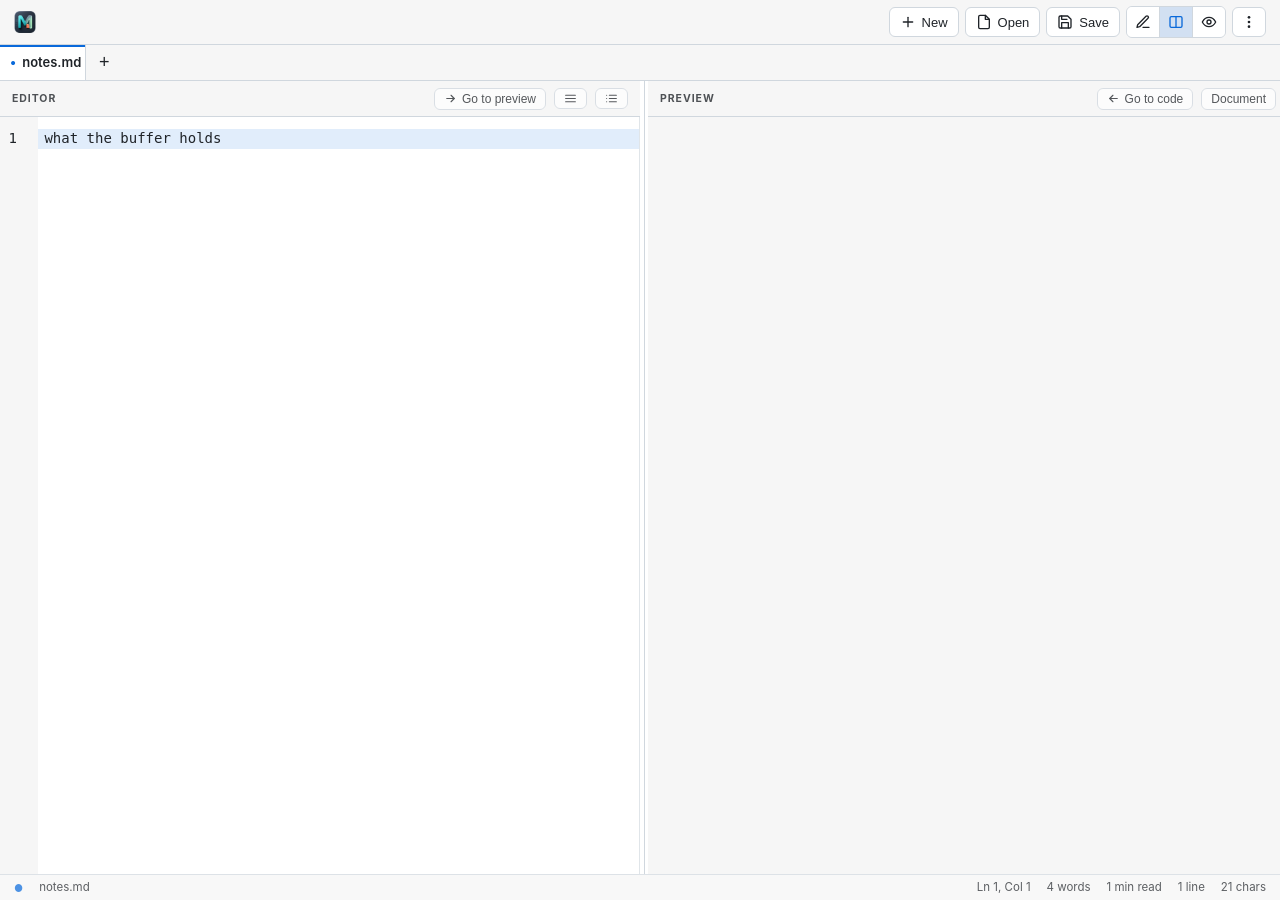
reloading from disk › asks first when there is unsaved work, and does nothing if told no
Click the button named "more options" at [1249, 22], box x1=1232 y1=7 x2=1266 y2=37
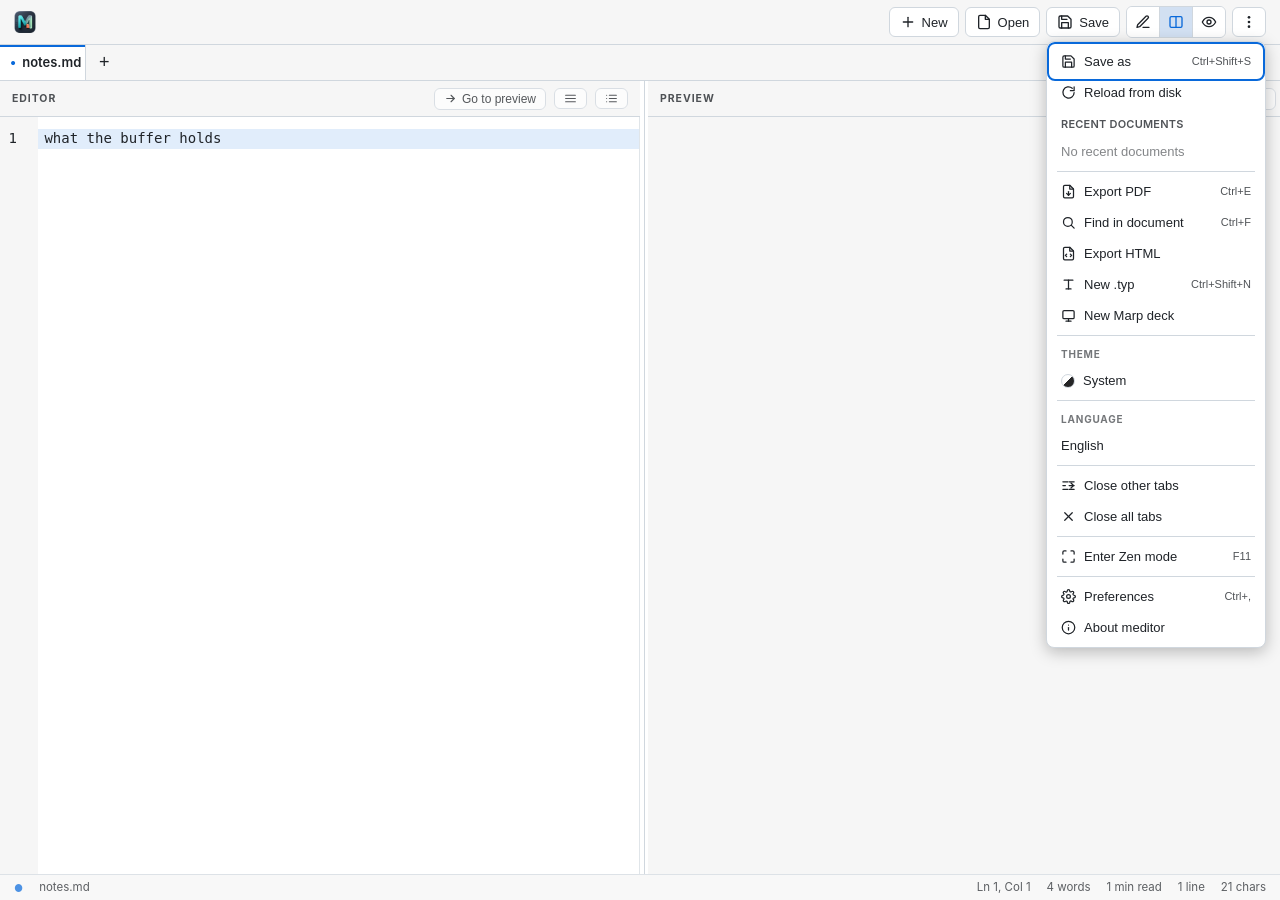
Click the menu item "Reload from disk" at [1156, 92], box x1=1051 y1=77 x2=1261 y2=108
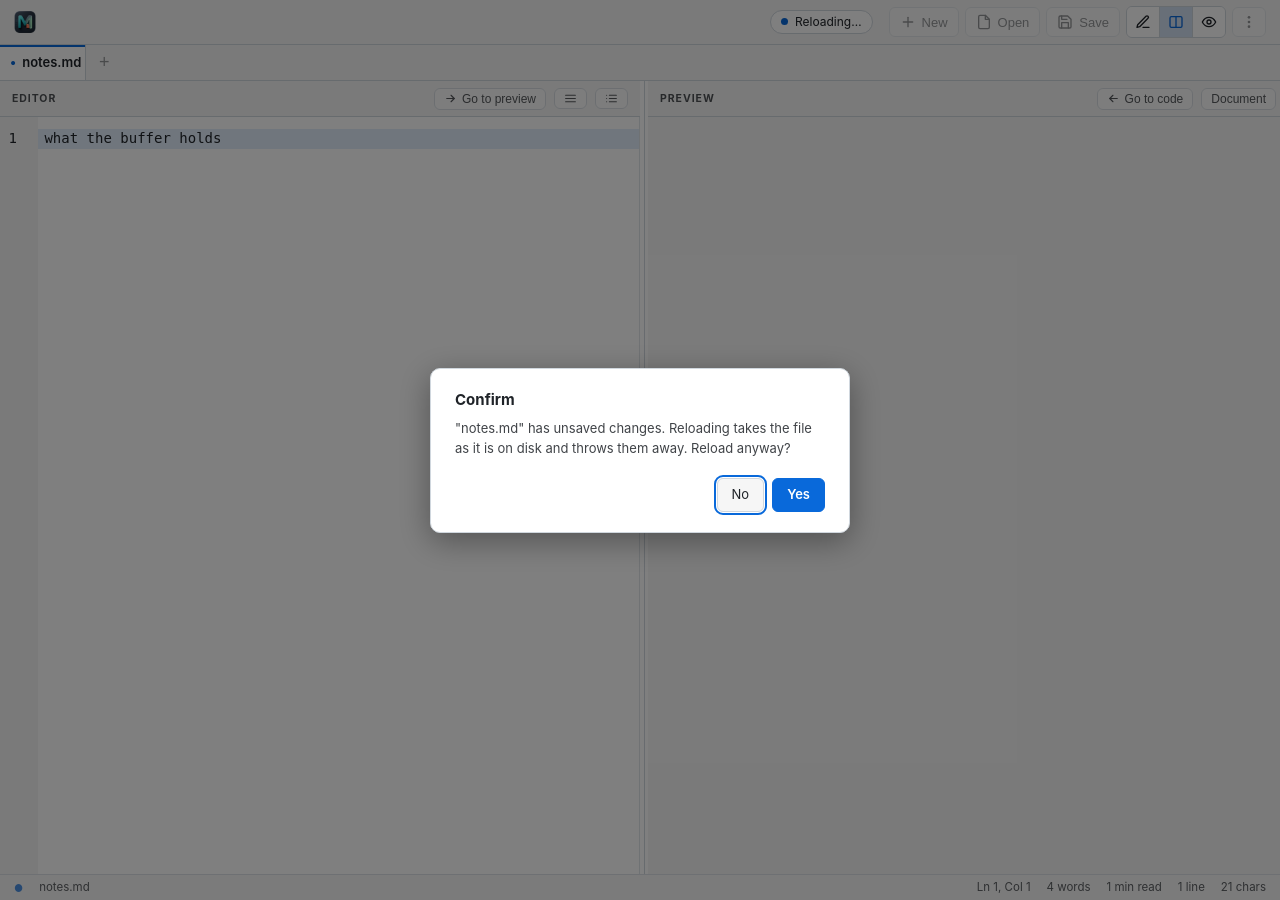
Expected: the text box labelled "what the buffer holds" is shown, x1=38 y1=129 x2=639 y2=149
Now the text "unsaved changes" is shown, box x1=455 y1=420 x2=812 y2=456
Click the button "No" at [740, 495], box x1=717 y1=478 x2=764 y2=512
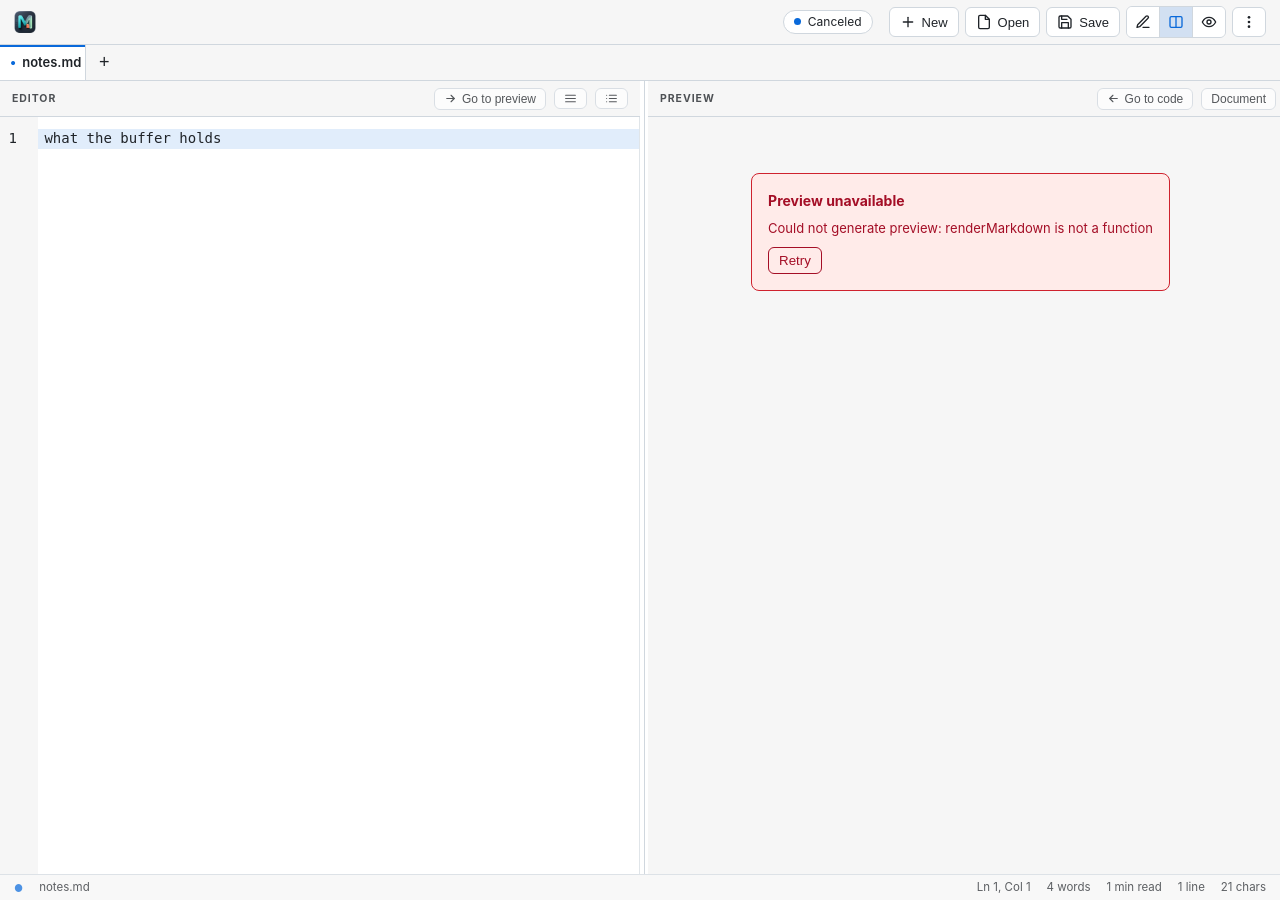
Expected: the text box labelled "what the buffer holds" is shown, x1=38 y1=129 x2=639 y2=149
Now the text "unsaved changes" is gone
